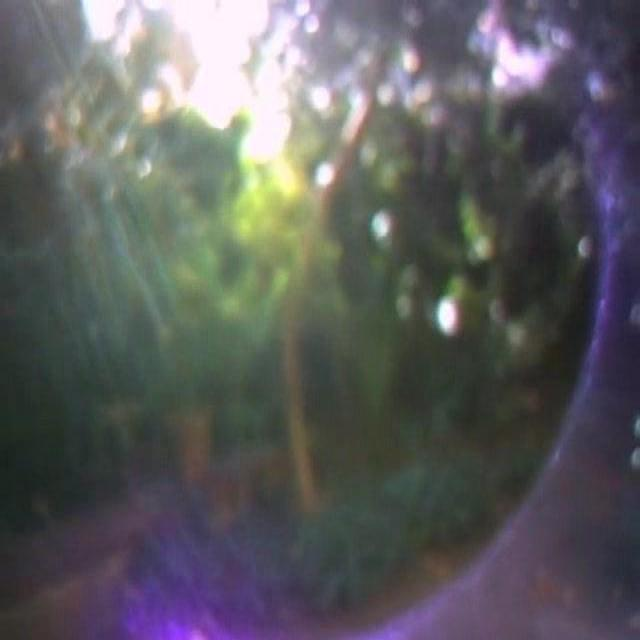other: (110, 0, 336, 269)
